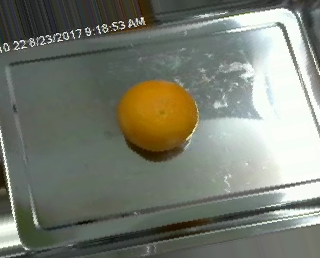Orange: (117, 79, 198, 151)
